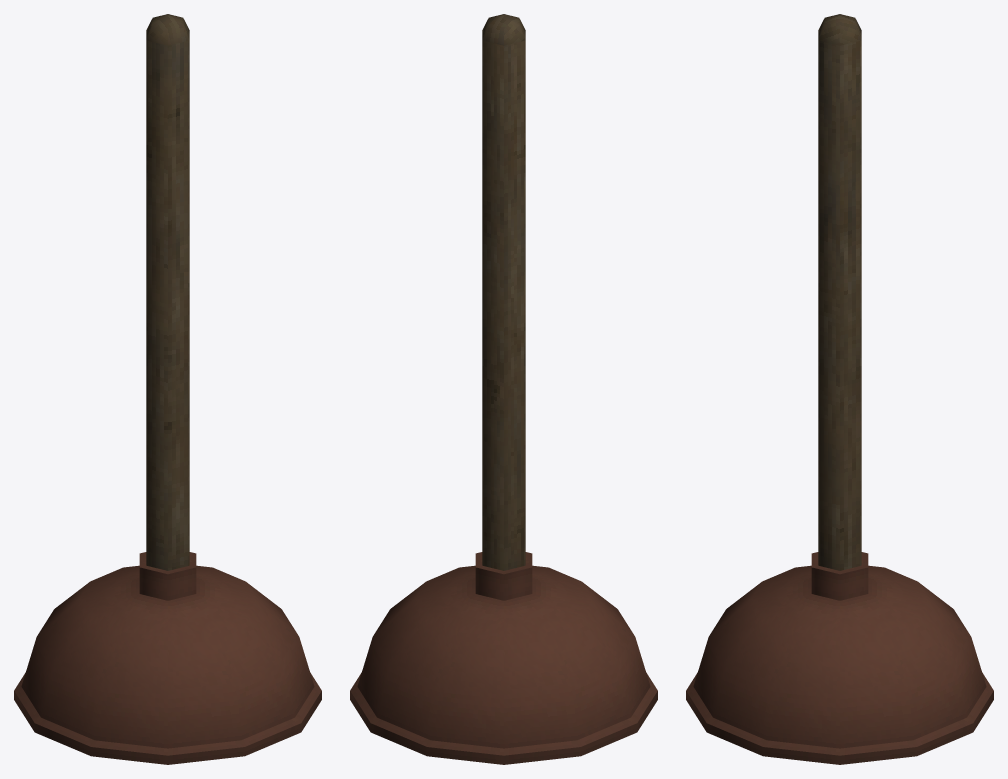
Rendered from toilet_plunger_mp_1.glb.
The picture shows the model from 3 angles, left to right: view 1: azimuth 30°, elevation 25°; view 2: azimuth 150°, elevation 25°; view 3: azimuth 270°, elevation 25°; orthographic projection.
Parts seen in each view (by area): view 1: toilet_plunger_mp_1; view 2: toilet_plunger_mp_1; view 3: toilet_plunger_mp_1.
Boxes of the visible parts, bbox=[...] form: toilet_plunger_mp_1: bbox=[14, 14, 321, 764]; toilet_plunger_mp_1: bbox=[350, 14, 657, 764]; toilet_plunger_mp_1: bbox=[686, 14, 993, 764].
Bounding box in the file's own units: 0.21 × 0.515 × 0.21.
Materials: 1 (1 with a texture image).
